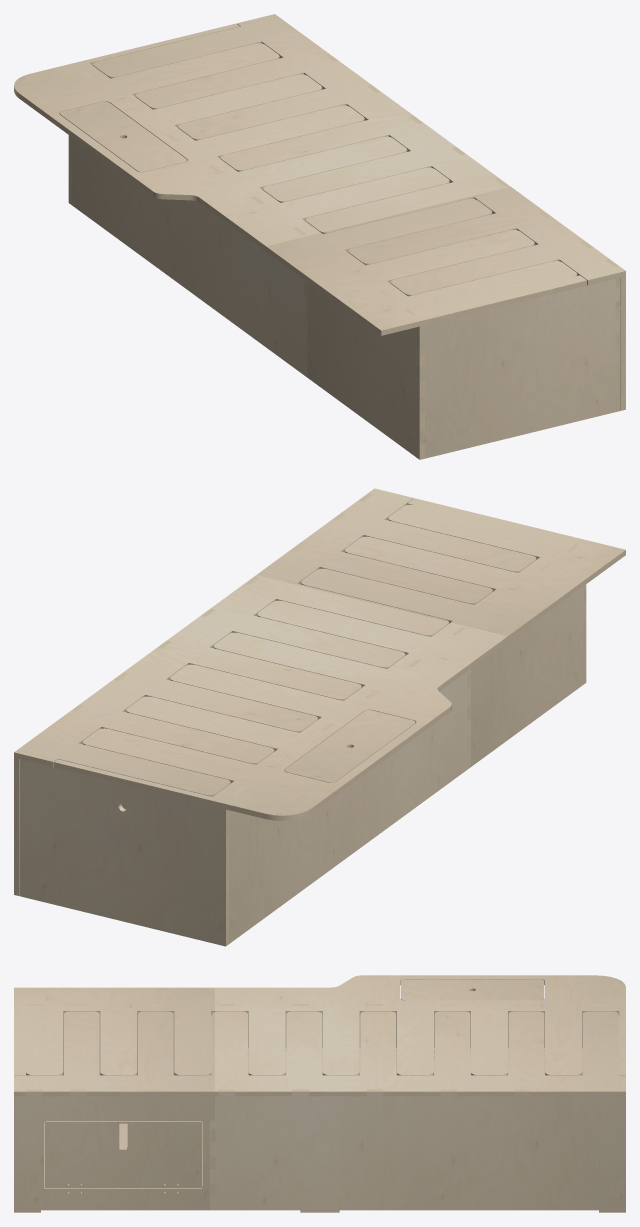
The model's file is lounge-slide-bed-birch.glb.
3 views of the same model, one above another, from view 1: azimuth 30°, elevation 25°; view 2: azimuth 150°, elevation 25°; view 3: azimuth 270°, elevation 25° (orthographic). The views are drawn at different scales.
Visible parts, largest first — view 1: Fixed comb top - rounded fingers R20_1, Sliding comb top - rounded fingers_1, Wall side with top tongues_1, Front end - finger joints 15mm_1, Fixed comb top - rounded fingers R20_0, Lift-out hatch 1 - 2mm clearance_1, Sliding comb top - rounded fingers_0, Sliding outer frame - three feet_0, Wall side with top tongues_0; view 2: Fixed comb top - rounded fingers R20_1, Sliding comb top - rounded fingers_1, Wall side with top tongues_1, Rear drawer fascia with finger pull_1, Fixed comb top - rounded fingers R20_0, Lift-out hatch 1 - 2mm clearance_1, Sliding comb top - rounded fingers_0, Sliding outer frame - three feet_0; view 3: Aisle side with access opening_1, Fixed comb top - rounded fingers R20_1, Sliding comb top - rounded fingers_1, Sliding outer frame - three feet_1, Side door 466x217x15 - finger pull and hinge holes_1, Lift-out hatch 1 - 2mm clearance_1, Sliding comb top - rounded fingers_0, Fixed comb top - rounded fingers R20_0, Wall side with top tongues_1, Sliding outer frame - three feet_0, Front storage floor_1.
Part boxes in pixels (box(x1,y1,x2,y2)): Fixed comb top - rounded fingers R20_1: box(14, 23, 586, 330); Sliding comb top - rounded fingers_1: box(93, 14, 625, 294); Wall side with top tongues_1: box(71, 137, 419, 459); Front end - finger joints 15mm_1: box(419, 279, 620, 458); Fixed comb top - rounded fingers R20_0: box(14, 26, 586, 335); Lift-out hatch 1 - 2mm clearance_1: box(60, 101, 186, 171); Sliding comb top - rounded fingers_0: box(93, 23, 625, 296); Sliding outer frame - three feet_0: box(282, 22, 625, 410); Wall side with top tongues_0: box(80, 71, 424, 459); Fixed comb top - rounded fingers R20_1: box(54, 498, 625, 815); Sliding comb top - rounded fingers_1: box(14, 488, 536, 795); Wall side with top tongues_1: box(229, 584, 586, 943); Rear drawer fascia with finger pull_1: box(19, 759, 225, 946); Fixed comb top - rounded fingers R20_0: box(54, 503, 625, 820); Lift-out hatch 1 - 2mm clearance_1: box(285, 710, 415, 782); Sliding comb top - rounded fingers_0: box(14, 498, 536, 796); Sliding outer frame - three feet_0: box(14, 493, 371, 895); Aisle side with access opening_1: box(41, 1120, 598, 1210); Fixed comb top - rounded fingers R20_1: box(14, 975, 625, 1074); Sliding comb top - rounded fingers_1: box(14, 1011, 625, 1091); Sliding outer frame - three feet_1: box(14, 1091, 625, 1212); Side door 466x217x15 - finger pull and hinge holes_1: box(45, 1122, 201, 1188); Lift-out hatch 1 - 2mm clearance_1: box(401, 979, 544, 1000); Sliding comb top - rounded fingers_0: box(14, 1091, 625, 1096); Fixed comb top - rounded fingers R20_0: box(14, 979, 625, 1075); Wall side with top tongues_1: box(63, 1015, 582, 1075); Sliding outer frame - three feet_0: box(26, 1089, 605, 1091); Front storage floor_1: box(44, 1122, 202, 1186).
Size of the model in its own units: 0.816 by 0.396 by 1.82.
3 materials, 2 textured.
